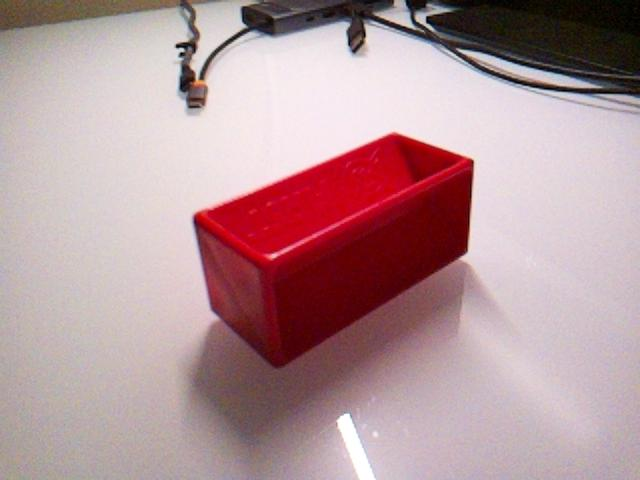red: (192, 130, 476, 368)
